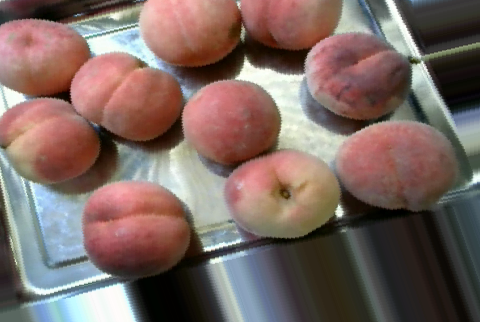Peach: (338, 118, 459, 210), (82, 179, 192, 277), (225, 148, 341, 239), (69, 52, 180, 140), (181, 78, 280, 169), (305, 32, 408, 119), (1, 96, 99, 184), (137, 0, 244, 70), (1, 17, 91, 97), (236, 2, 344, 49)
